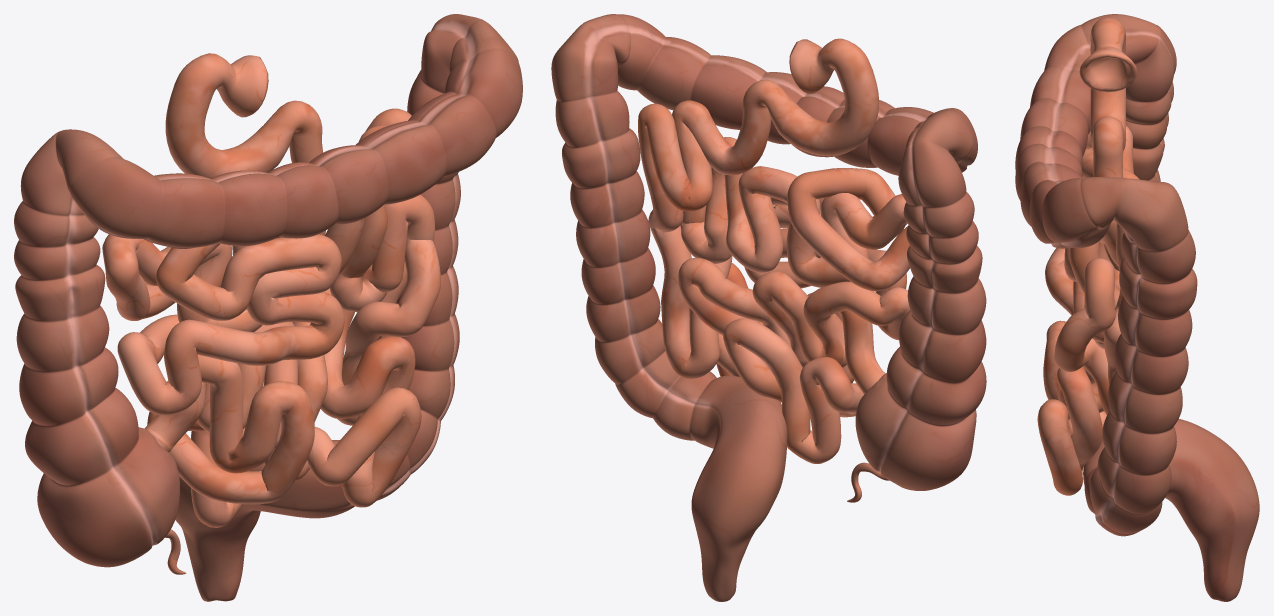
3 views of the same model, side by side, from view 1: azimuth 30°, elevation 25°; view 2: azimuth 150°, elevation 25°; view 3: azimuth 270°, elevation 25° (orthographic). The views are drawn at different scales.
Visible parts, largest first — view 1: Tjocktarm, Tunntarm; view 2: Tjocktarm, Tunntarm; view 3: Tjocktarm, Tunntarm.
Boxes of the visible parts, left/top/right/bottom form: Tjocktarm: left=14, top=14, right=522, bottom=601; Tunntarm: left=102, top=53, right=440, bottom=527; Tjocktarm: left=551, top=14, right=986, bottom=601; Tunntarm: left=638, top=38, right=910, bottom=463; Tjocktarm: left=1015, top=14, right=1259, bottom=601; Tunntarm: left=1037, top=17, right=1139, bottom=495.
Size of the model in its own units: 1.51 by 1.84 by 0.7468.
Materials: 2 (2 with a texture image).
